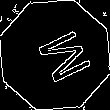M_SW: (22, 23, 88, 87)
